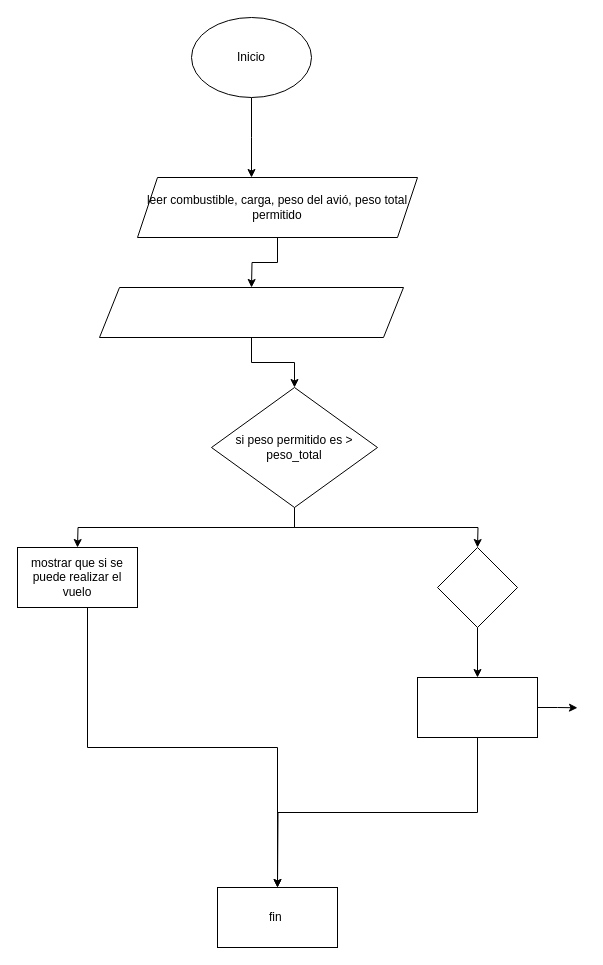
The diagram is 603 pixels wide and 965 high, and some of its shapes have lost their labels. Here are the shapes that lost their labels. From the top down, the centre of each, then its label:
At pixel 251 312: "Peso_total=combustible + carga +peso del avion".
At pixel 477 587: "si no".
At pixel 477 707: "mostrar que no se permite el vuelo".
